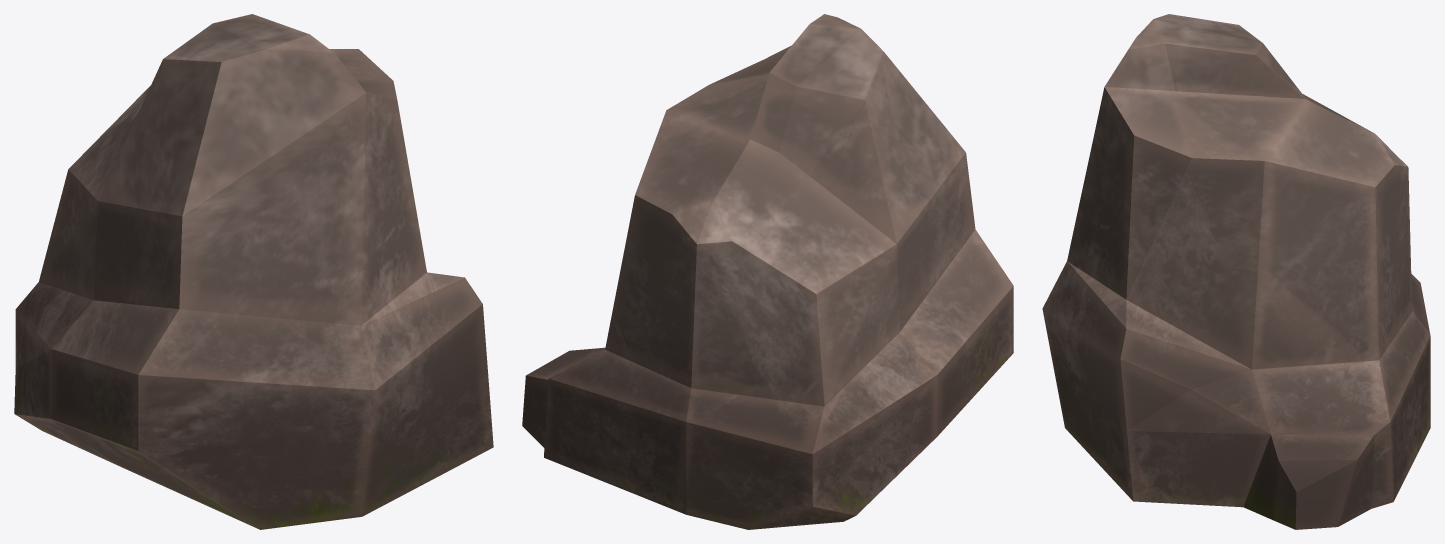
The model's file is kamulec2uv.obj.
The picture shows the model from 3 angles, left to right: view 1: azimuth 30°, elevation 25°; view 2: azimuth 150°, elevation 25°; view 3: azimuth 270°, elevation 25°; orthographic projection. The views are drawn at different scales.
Parts seen in each view (by area): view 1: kamień_1; view 2: kamień_1; view 3: kamień_1.
Boxes of the visible parts, box(x1,y1,x2,y2) form: kamień_1: box(14, 14, 493, 529); kamień_1: box(522, 14, 1013, 529); kamień_1: box(1042, 14, 1430, 529).
Size of the model in its own units: 2.9 by 2.87 by 2.58.
1 material, 1 textured.
